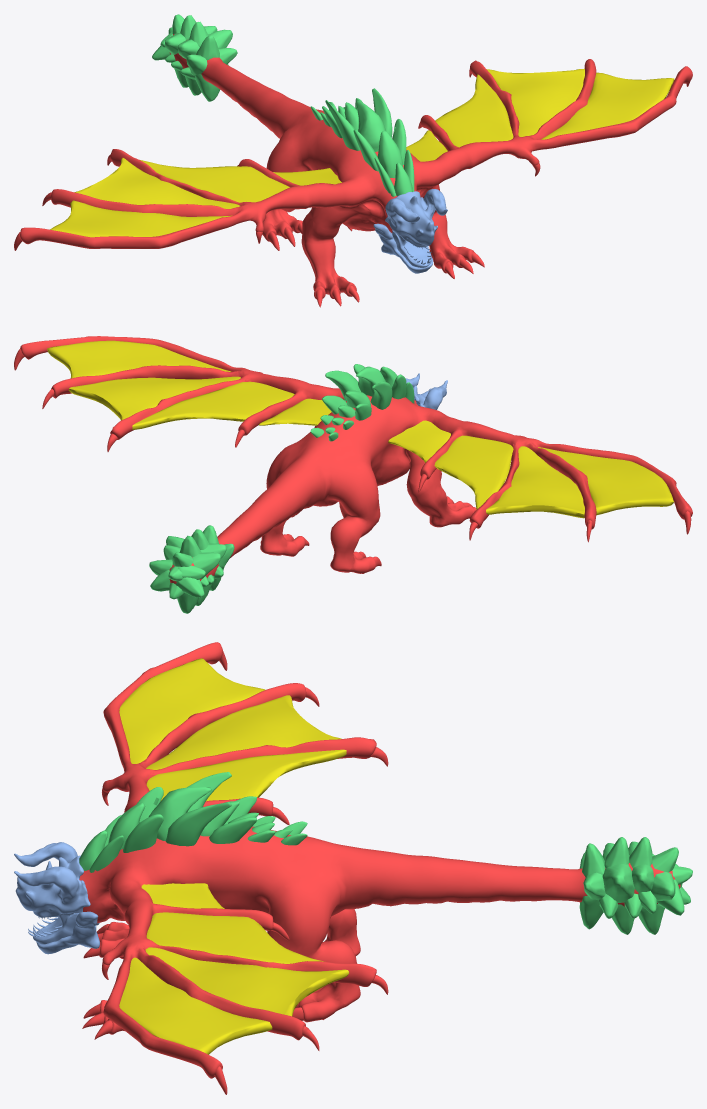
Rendered from SM_Creature.FBX.
3 views of the same model, one above another, from view 1: azimuth 30°, elevation 25°; view 2: azimuth 150°, elevation 25°; view 3: azimuth 270°, elevation 25° (orthographic). The views are drawn at different scales.
Visible parts, largest first — view 1: Recovered_Tool3_1; view 2: Recovered_Tool3_1; view 3: Recovered_Tool3_1.
Part boxes in pixels (x1,y1,x2,y2): Recovered_Tool3_1: (14,14,692,307); Recovered_Tool3_1: (14,336,692,613); Recovered_Tool3_1: (14,642,692,1094).
Bounding box in the file's own units: 7267 × 1643 × 4895.
